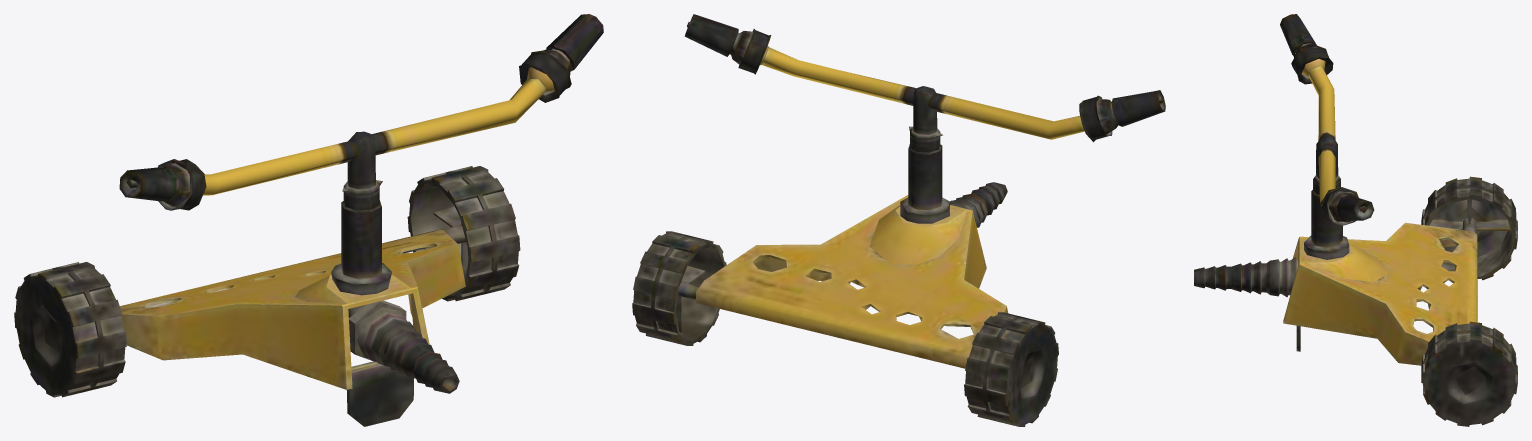
Rendered from sprinkler-garden.62b9037e.glb.
3 renders of one model, left to right at view 1: azimuth 30°, elevation 25°; view 2: azimuth 150°, elevation 25°; view 3: azimuth 270°, elevation 25°, orthographic. The views are drawn at different scales.
Visible parts, largest first — view 1: model; view 2: model; view 3: model.
Part boxes in pixels (<box>): model: <box>14,14,603,426</box>; model: <box>632,14,1165,426</box>; model: <box>1194,14,1517,426</box>.
Bounding box in the file's own units: 0.3508 × 0.2022 × 0.2491.
Materials: 1 (1 with a texture image).
